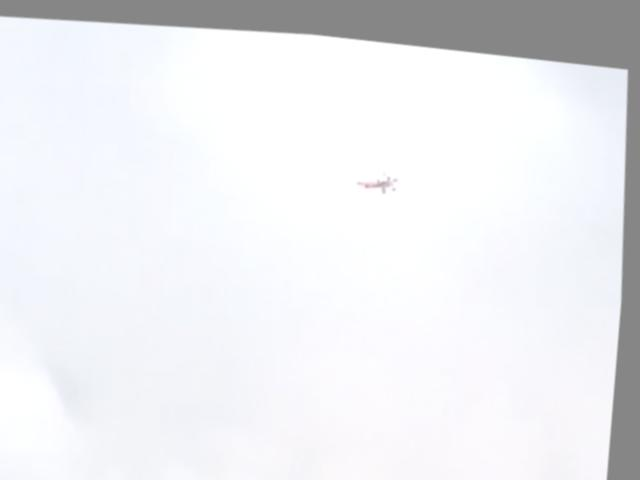plane: (359, 158, 402, 190)
